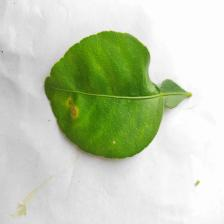canker: (47, 85, 122, 130)
